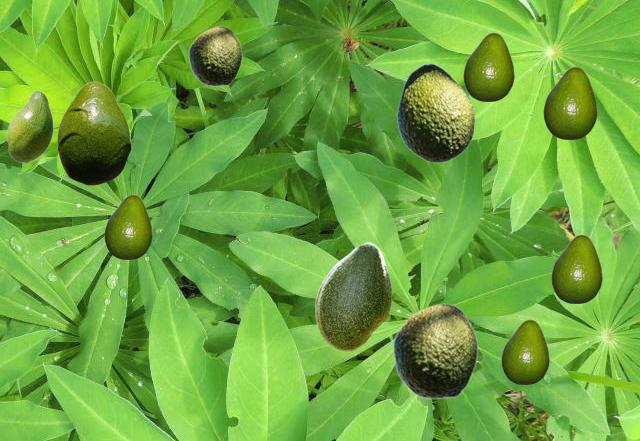avocado: (315, 242, 390, 350), (392, 303, 477, 398), (396, 63, 474, 162), (57, 81, 130, 184), (543, 66, 596, 138), (463, 32, 513, 100), (551, 234, 601, 302), (7, 90, 52, 162), (188, 26, 241, 85), (104, 194, 151, 258), (501, 319, 548, 383)
